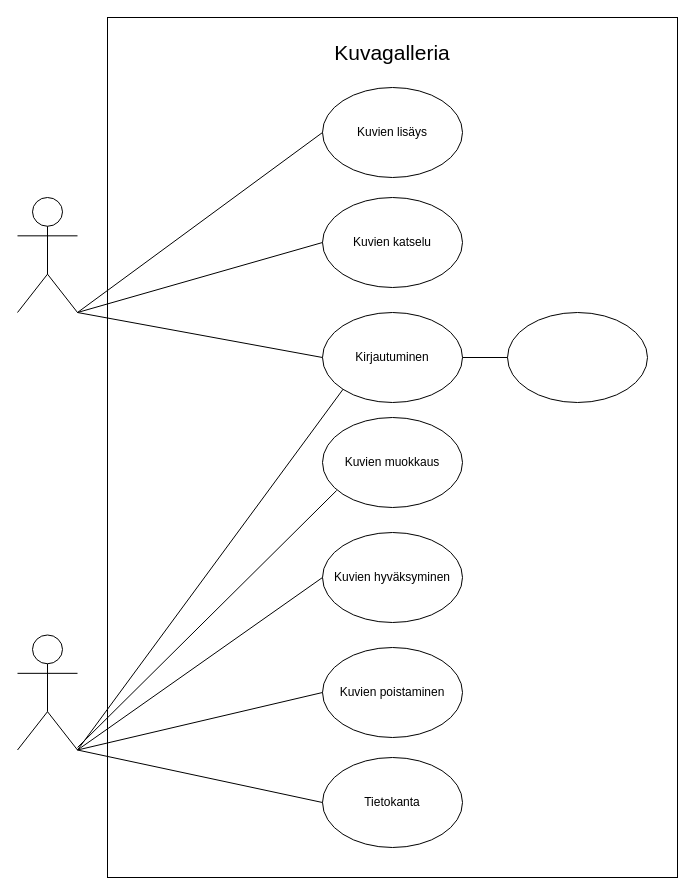
Image size: 695x895. Some labels were removed from this diagram. The centre of each missing label's shape, as x and y in pixels:
Käyttäjä: the point at 47,254
Rekisteröityminen: the point at 577,357
Ylläpitäjä: the point at 47,692
